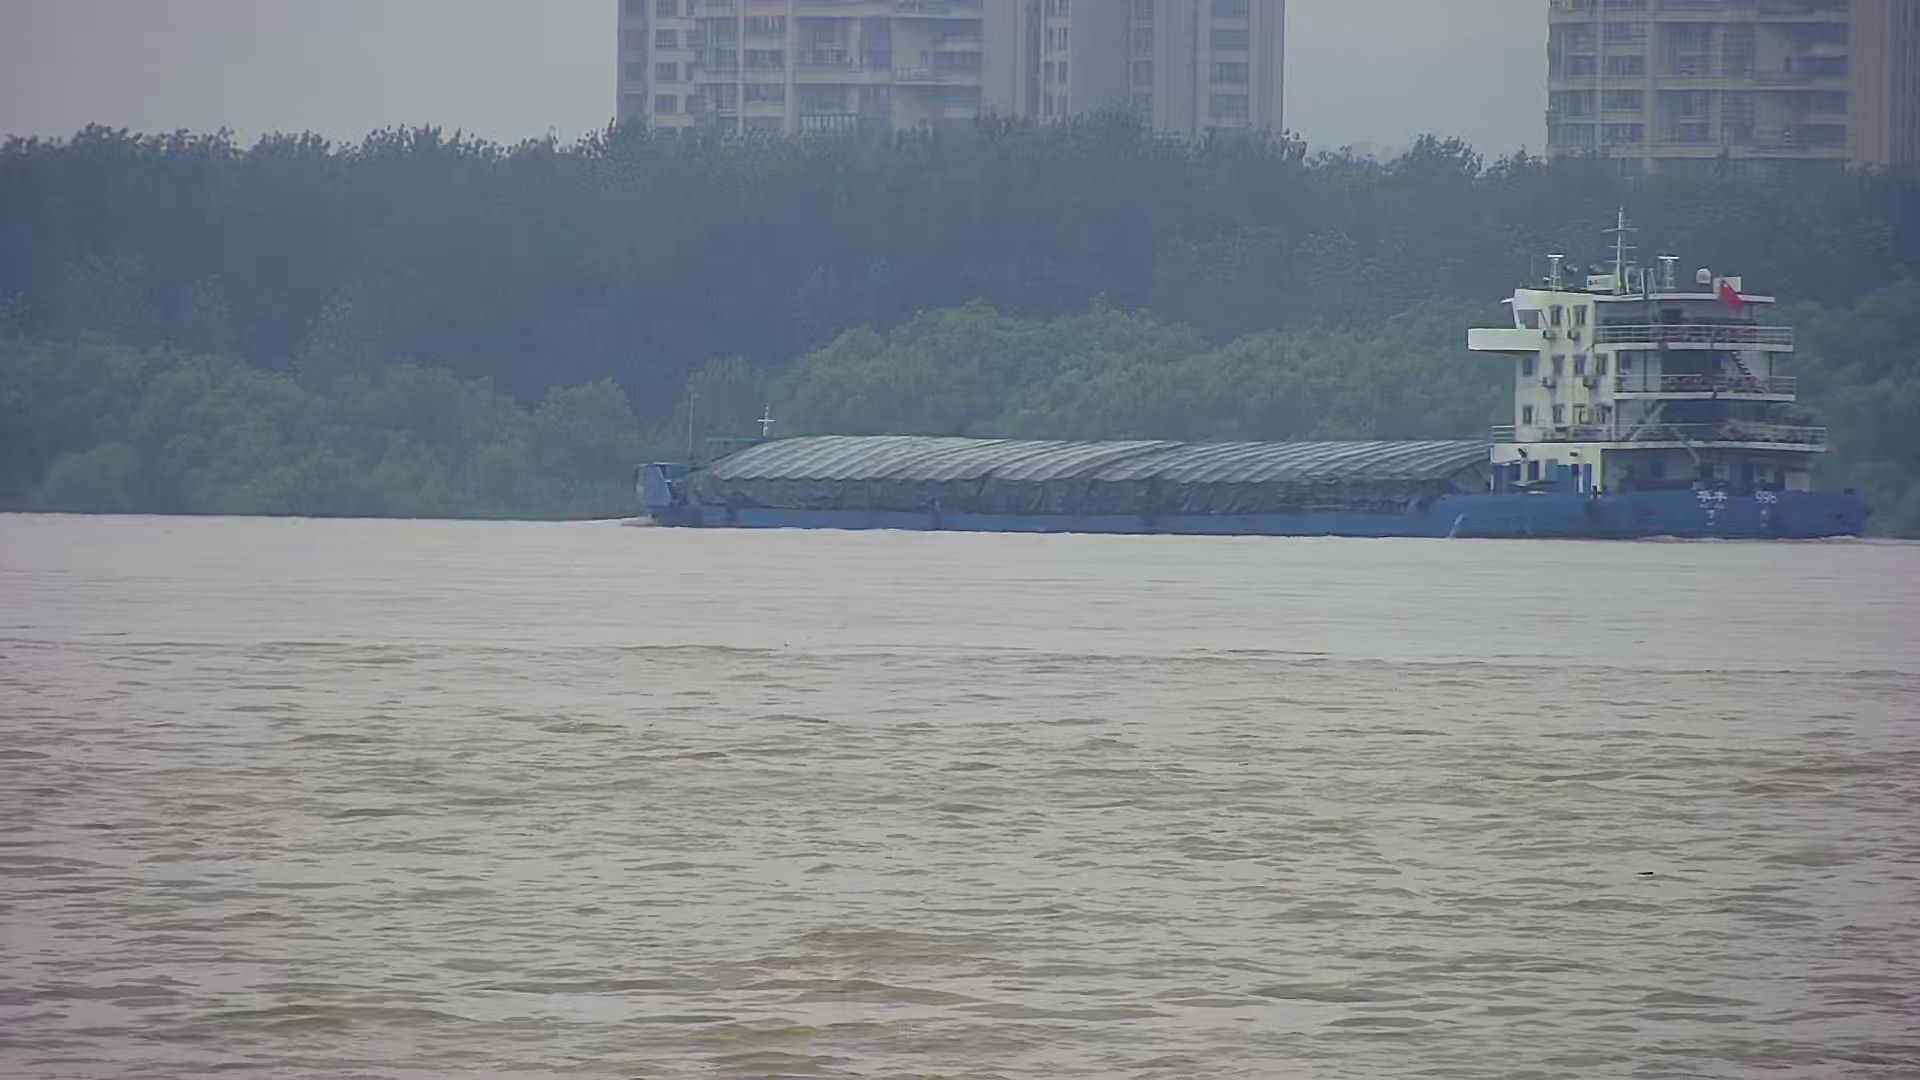ship: (626, 208, 1874, 549)
